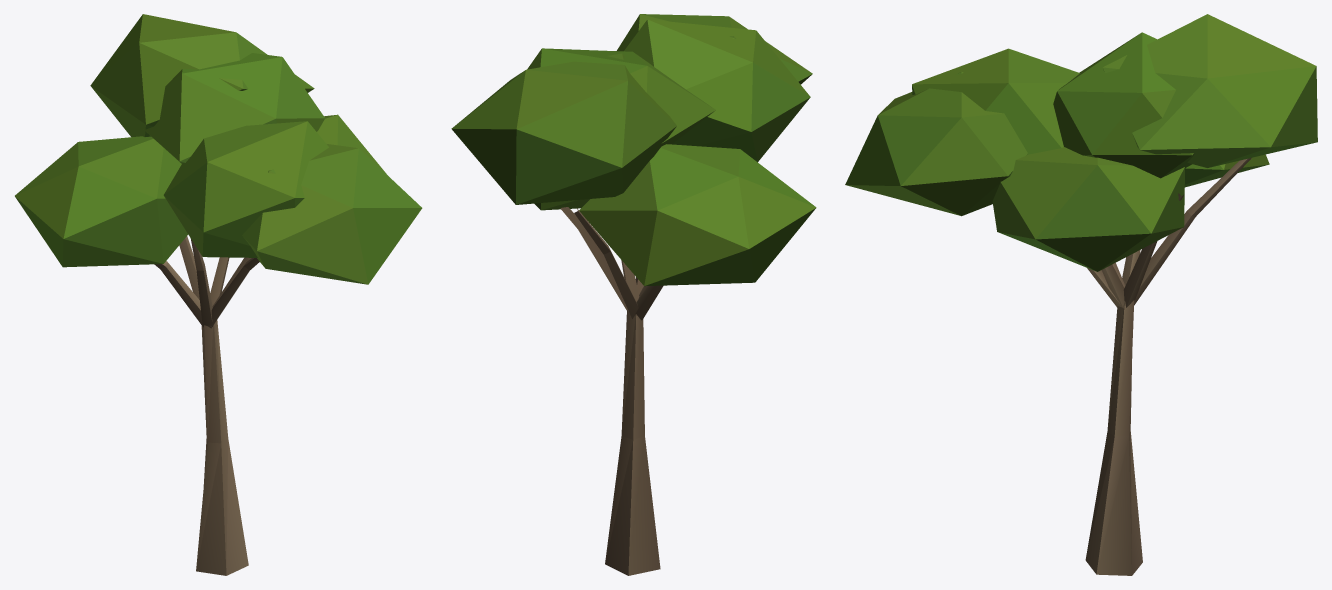
Rendered from canopy_giant_far.glb.
3 views of the same model, side by side, from view 1: azimuth 30°, elevation 25°; view 2: azimuth 150°, elevation 25°; view 3: azimuth 270°, elevation 25° (orthographic). The views are drawn at different scales.
Visible parts, largest first — view 1: canopy_giant_far_leafy, canopy_giant_far_solid; view 2: canopy_giant_far_leafy, canopy_giant_far_solid; view 3: canopy_giant_far_leafy, canopy_giant_far_solid.
Part boxes in pixels (bbox=[...]): canopy_giant_far_leafy: bbox=[15, 14, 422, 284]; canopy_giant_far_solid: bbox=[154, 236, 259, 575]; canopy_giant_far_leafy: bbox=[451, 14, 816, 286]; canopy_giant_far_solid: bbox=[560, 207, 663, 575]; canopy_giant_far_leafy: bbox=[845, 14, 1317, 271]; canopy_giant_far_solid: bbox=[1085, 158, 1251, 575].
Size of the model in its own units: 19.9 by 31.38 by 25.24.
